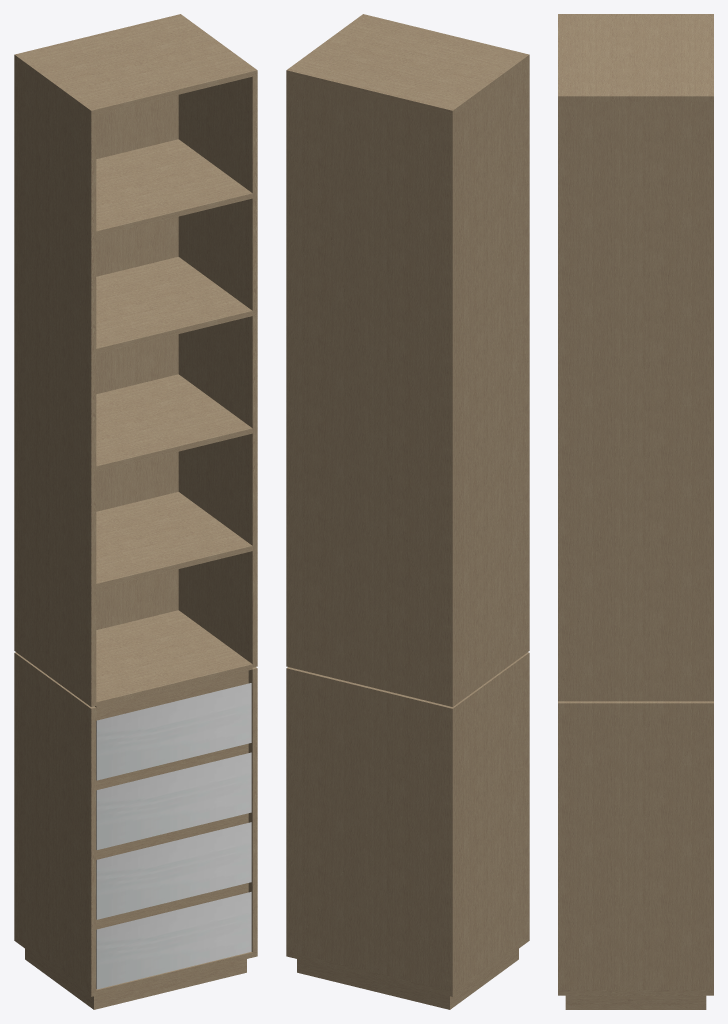
The model's file is 009_Estante-A.glb.
The picture shows the model from 3 angles, left to right: view 1: azimuth 30°, elevation 25°; view 2: azimuth 150°, elevation 25°; view 3: azimuth 270°, elevation 25°; orthographic projection.
Visible parts, largest first — view 1: root; view 2: root; view 3: root.
Part boxes in pixels (bbox=[...]): root: bbox=[14, 14, 257, 1009]; root: bbox=[286, 14, 529, 1009]; root: bbox=[558, 14, 713, 1009].
Size of the model in its own units: 0.5 by 2.6 by 0.4.
5 materials, 5 textured.
